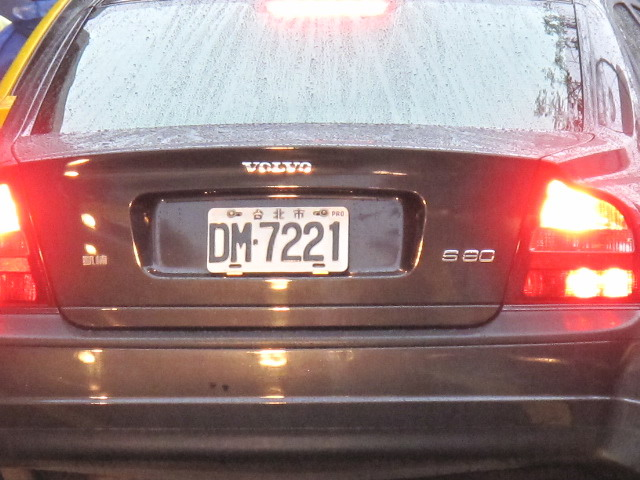plate: (205, 203, 353, 279)
